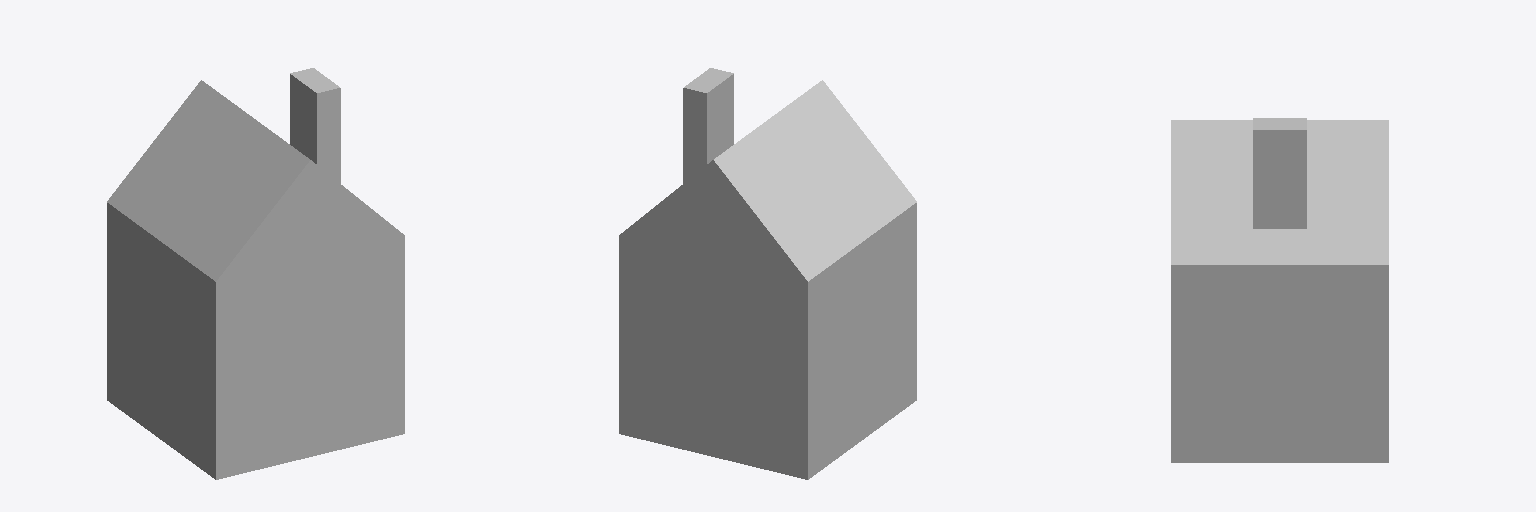
Rendered from house.obj.
3 views of the same model, side by side, from view 1: azimuth 30°, elevation 25°; view 2: azimuth 150°, elevation 25°; view 3: azimuth 270°, elevation 25° (orthographic).
Bounding box in the file's own units: 4 × 6.5 × 4.